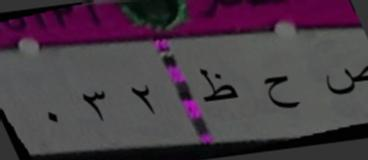0: (43, 102, 68, 132)
2: (126, 74, 163, 124)
3: (80, 89, 114, 130)
7aa: (258, 66, 305, 122)
Thaa: (197, 62, 240, 110)
saad: (322, 61, 368, 98)
